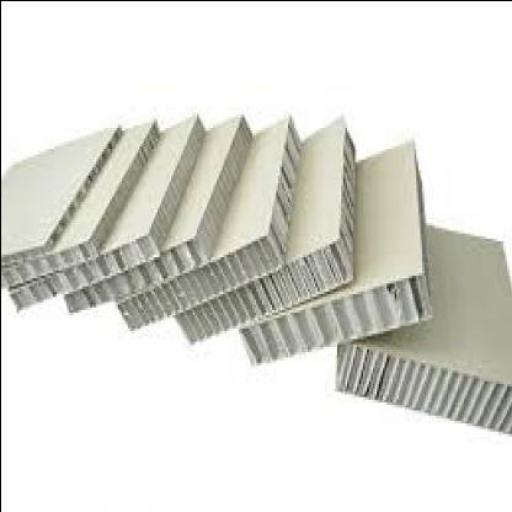cardboard: (241, 134, 435, 360), (174, 116, 360, 340), (117, 111, 303, 327), (6, 111, 208, 309), (67, 111, 253, 311), (337, 222, 511, 432), (2, 116, 160, 282), (2, 119, 122, 259)
